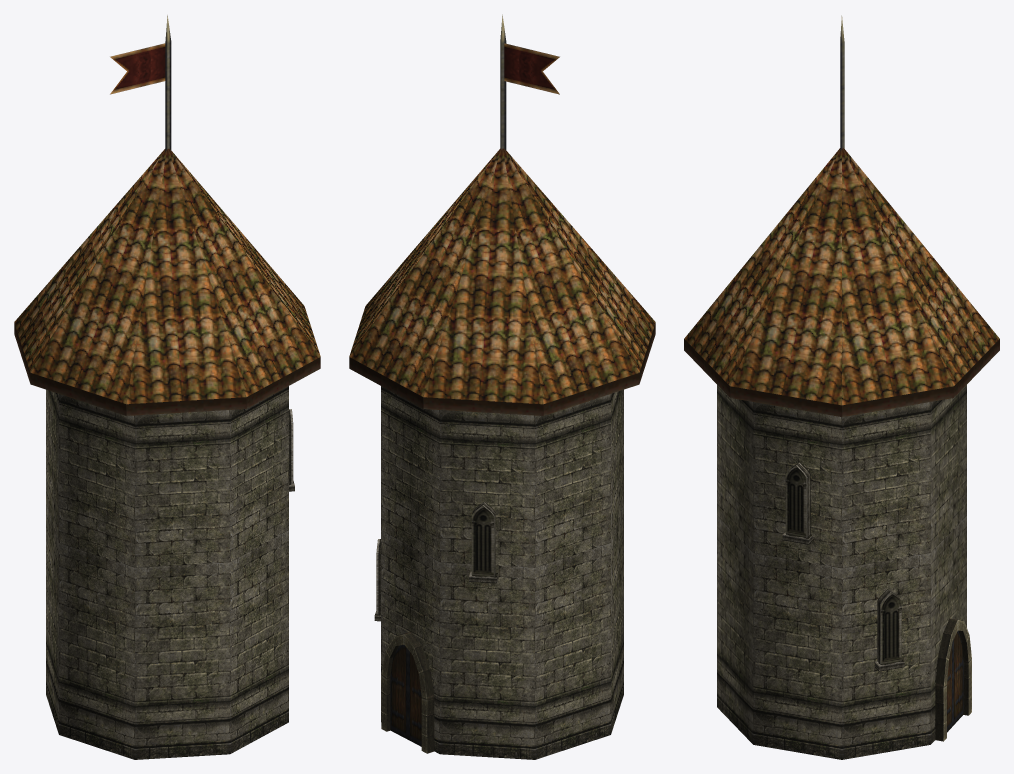
The model's file is shijieditu_08.FBX.
3 views of the same model, side by side, from view 1: azimuth 30°, elevation 25°; view 2: azimuth 150°, elevation 25°; view 3: azimuth 270°, elevation 25° (orthographic).
Visible parts, largest first — view 1: shijieditu_08; view 2: shijieditu_08; view 3: shijieditu_08.
Boxes of the visible parts, <box> form: shijieditu_08: <box>14,15,320,759</box>; shijieditu_08: <box>349,14,655,759</box>; shijieditu_08: <box>684,15,999,759</box>.
Size of the model in its own units: 12.41 by 30.06 by 12.41.
